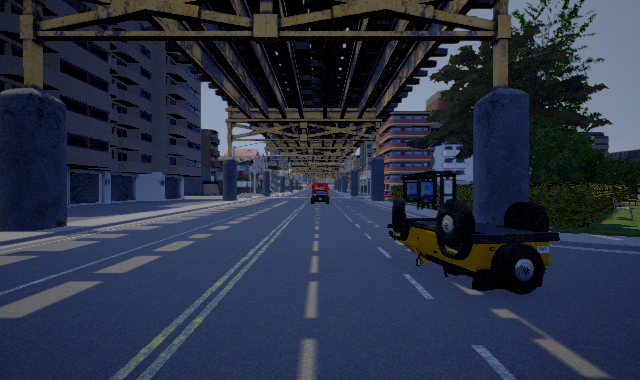vehicle: (387, 199, 560, 295), (311, 183, 330, 204)
